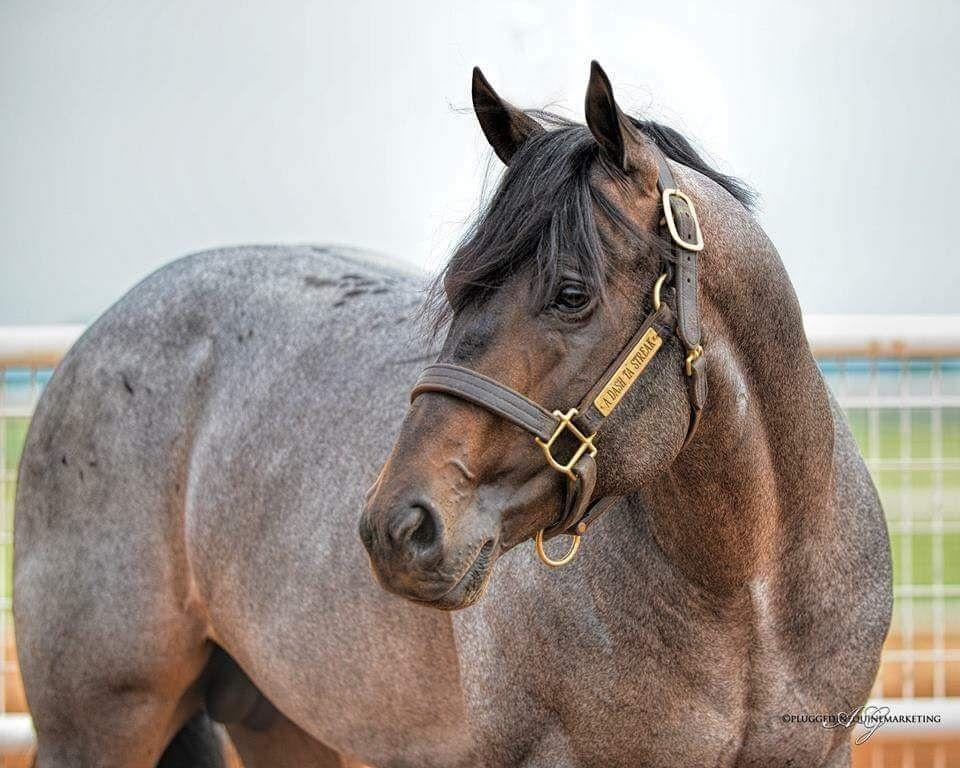horse: (9, 58, 894, 766)
